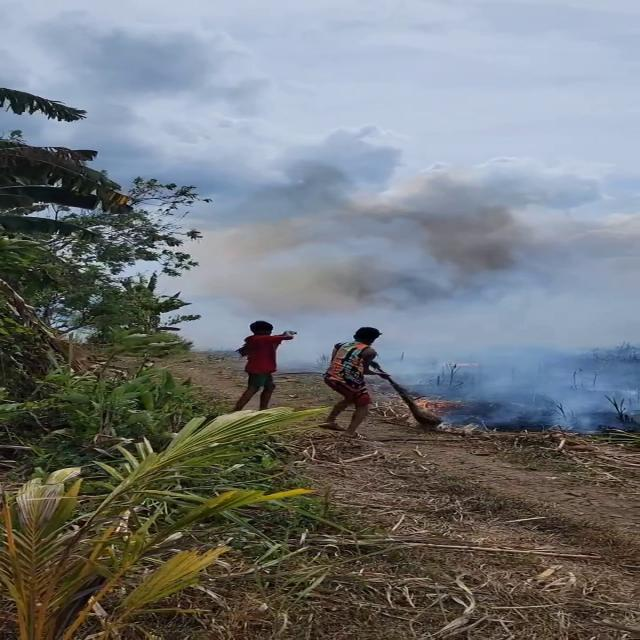Smoke: (203, 141, 633, 425)
